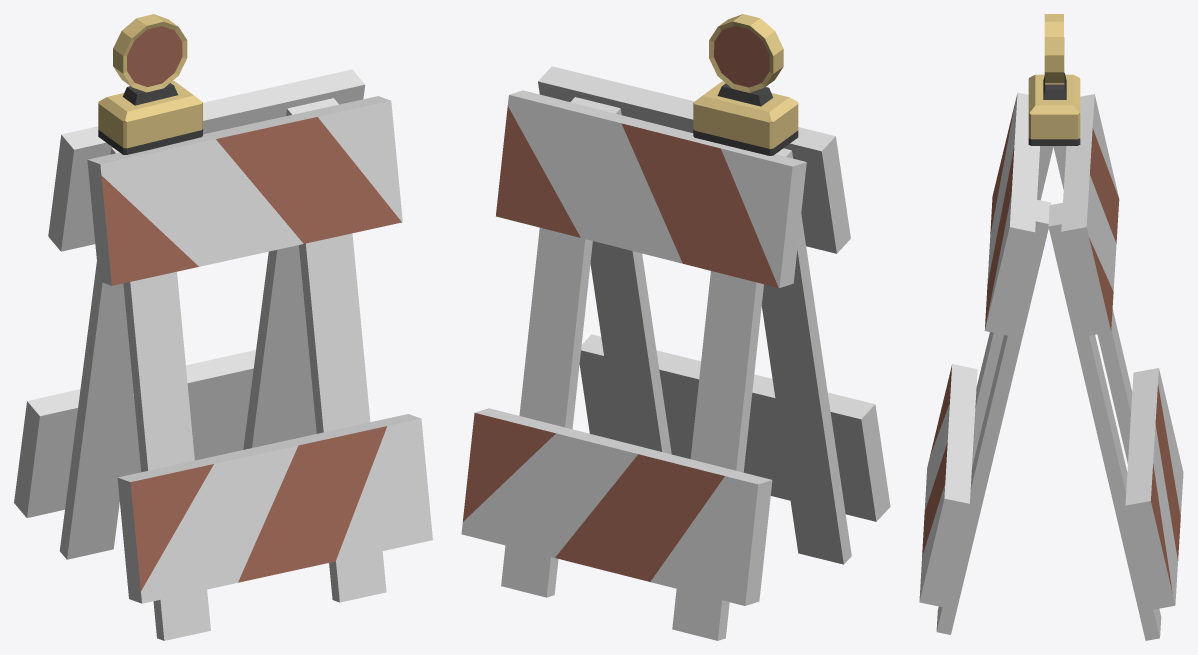
Rendered from SM_Roadblock.fbx.
3 views of the same model, side by side, from view 1: azimuth 30°, elevation 25°; view 2: azimuth 150°, elevation 25°; view 3: azimuth 270°, elevation 25° (orthographic). The views are drawn at different scales.
Visible parts, largest first — view 1: pCube10; view 2: pCube10; view 3: pCube10.
Boxes of the visible parts, x1,y1,x2,y2 form: pCube10: (14, 14, 432, 640); pCube10: (461, 14, 890, 640); pCube10: (919, 14, 1183, 640).
Bounding box in the file's own units: 2.04 × 3.79 × 1.69.
